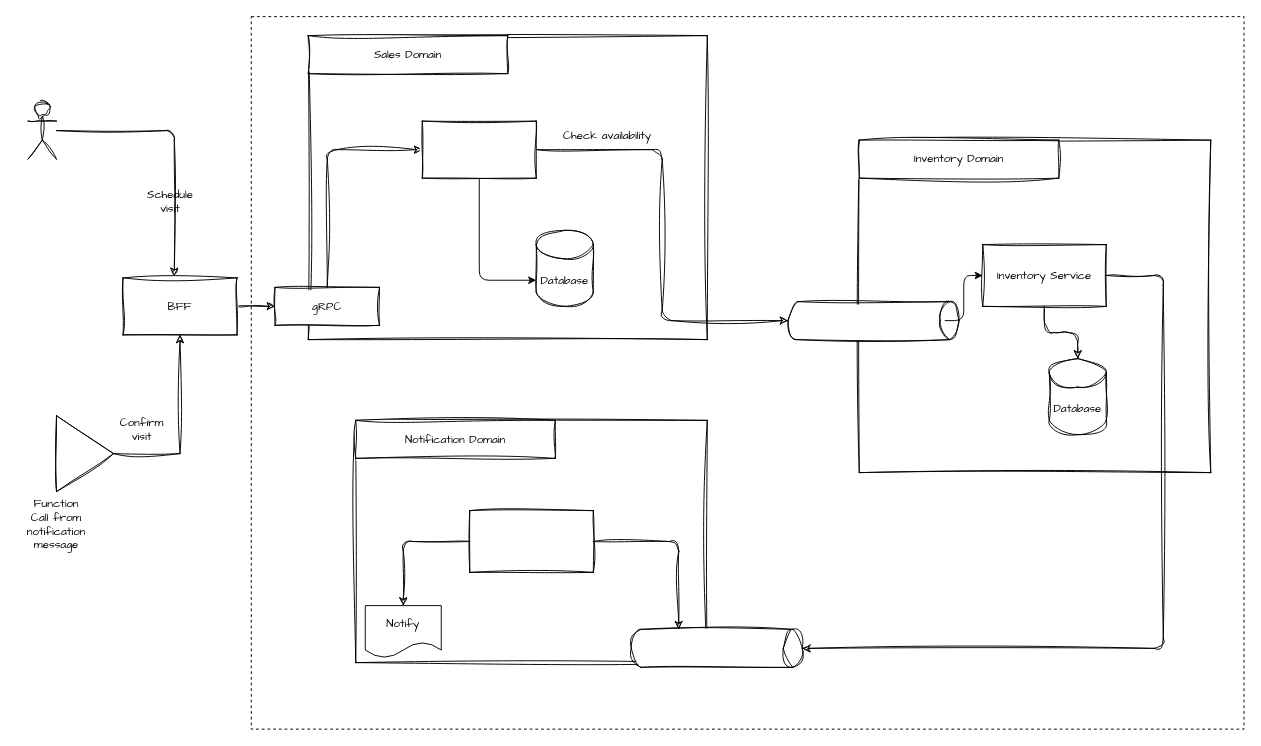
This 1261x746 diagram has some shape labels left out. The shapes that lost their labels are listed below. From the top down, each one's centre as x and y in pixels, then its label:
the point at 42,130: Customer
the point at 478,149: Sales Service
the point at 873,320: Command:
the point at 531,541: Notification Service
the point at 716,647: Event:
